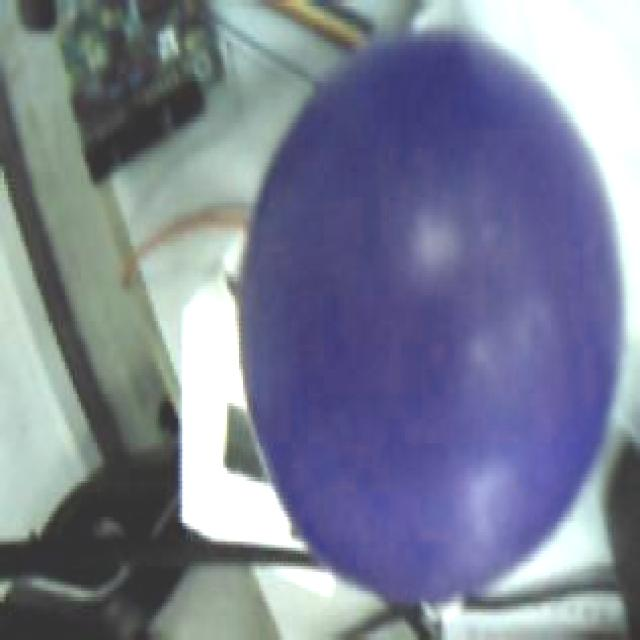BallPurple: (239, 30, 620, 598)
